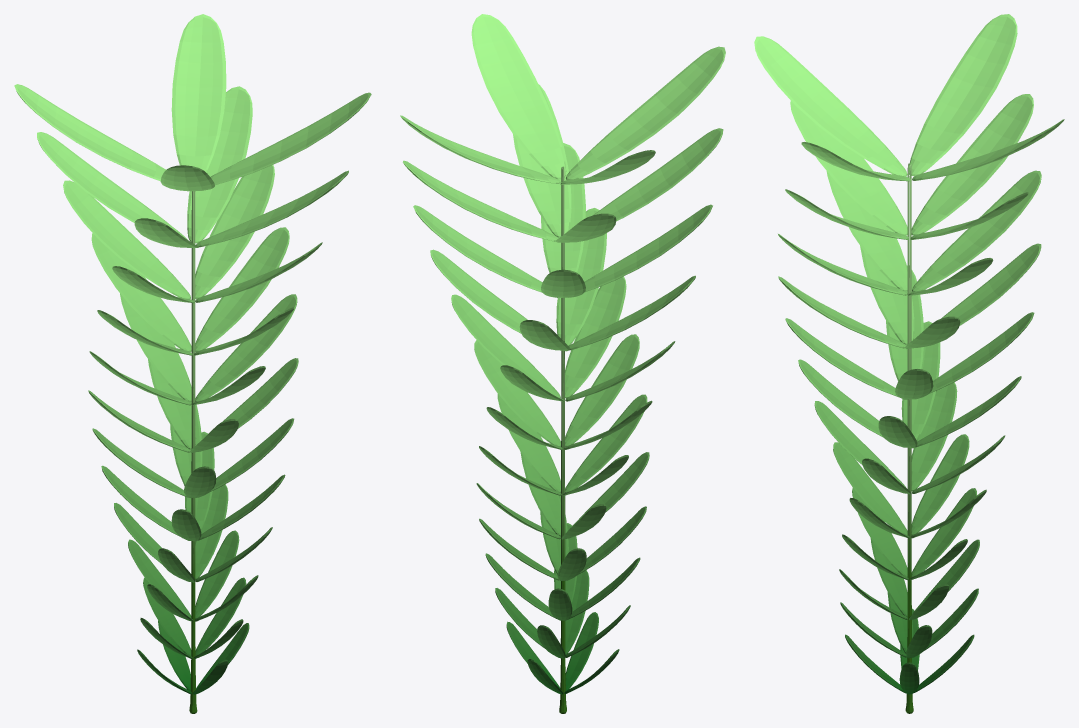
The model's file is Kelp_02.fbx.
3 views of the same model, side by side, from view 1: azimuth 30°, elevation 25°; view 2: azimuth 150°, elevation 25°; view 3: azimuth 270°, elevation 25° (orthographic).
Parts seen in each view (by area): view 1: Leaves.003, KelpStalk.001; view 2: Leaves.003, KelpStalk.001; view 3: Leaves.003, KelpStalk.001.
Boxes of the visible parts, <box> form: Leaves.003: <box>14,14,371,694</box>; KelpStalk.001: <box>189,191,197,713</box>; Leaves.003: <box>400,14,725,694</box>; KelpStalk.001: <box>559,166,566,713</box>; Leaves.003: <box>754,14,1064,694</box>; KelpStalk.001: <box>905,163,913,713</box>.
Bounding box in the file's own units: 986 × 2233 × 989.
